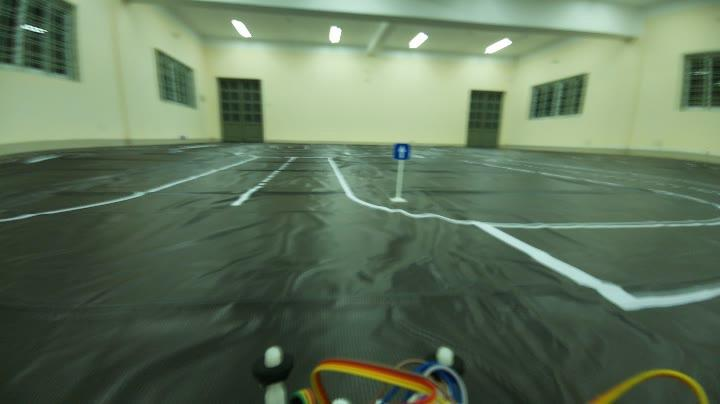onewayroad: (388, 138, 416, 164)
